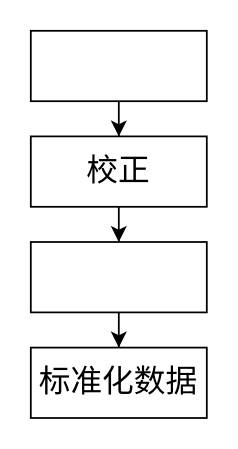
The diagram is 238 pixels wide and 449 high, and some of its shapes have lost their labels. Here are the shapes that lost their labels. From the top down, the box of each, then its label:
(29, 29, 207, 101): 原始数据
(29, 240, 207, 312): 融合
